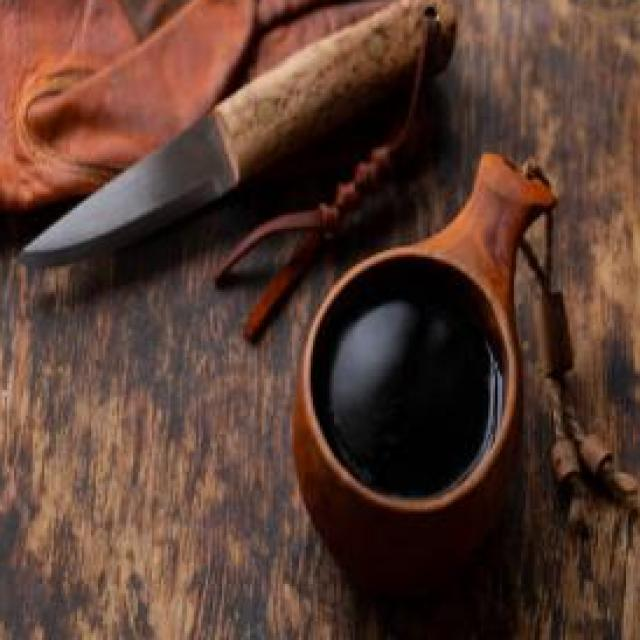knife: (14, 0, 458, 269)
